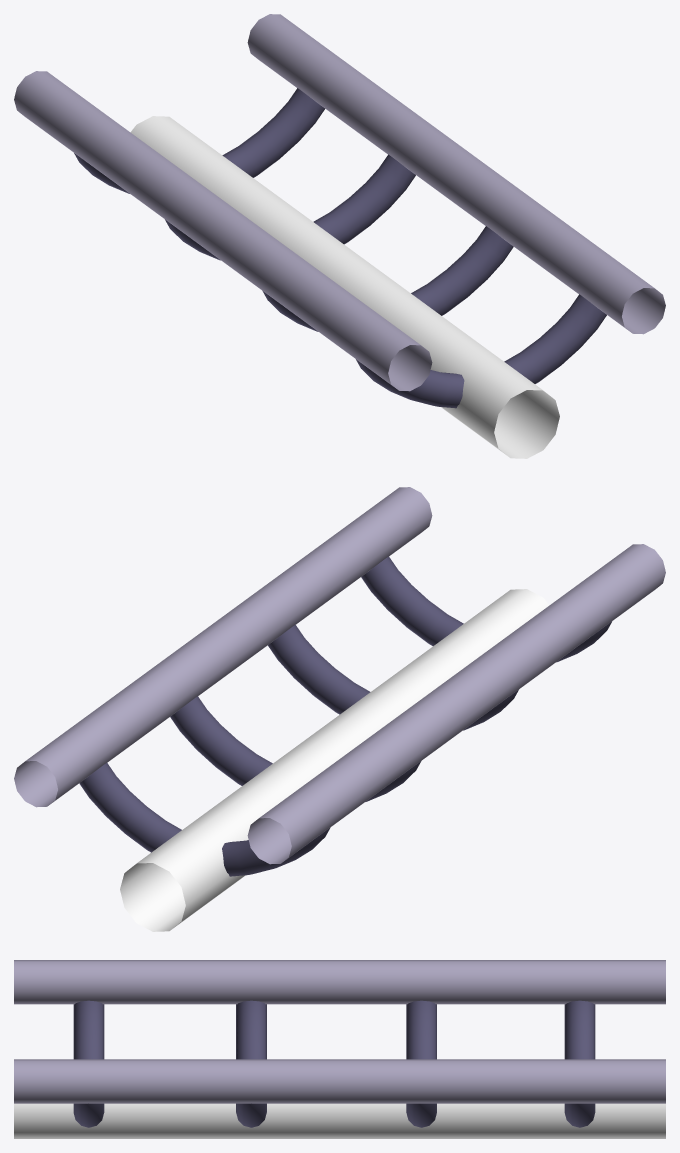
Rendered from rail-straight.glb.
The picture shows the model from 3 angles, top to bottom: view 1: azimuth 30°, elevation 25°; view 2: azimuth 150°, elevation 25°; view 3: azimuth 270°, elevation 25°; orthographic projection. The views are drawn at different scales.
Parts seen in each view (by area): view 1: Plane.278_Material.001_0; view 2: Plane.278_Material.001_0; view 3: Plane.278_Material.001_0.
Part boxes in pixels (bbox=[...]): Plane.278_Material.001_0: bbox=[14, 14, 665, 458]; Plane.278_Material.001_0: bbox=[14, 487, 665, 931]; Plane.278_Material.001_0: bbox=[14, 960, 665, 1138].
Bounding box in the file's own units: 2.74 × 1.34 × 6.39.
1 material, 1 textured.
